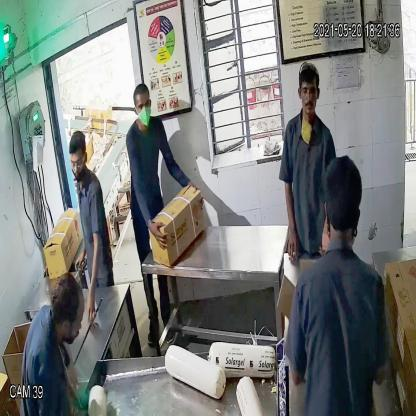goggles: (66, 154, 88, 173)
no_goggles: (297, 82, 321, 100), (132, 99, 154, 114)
